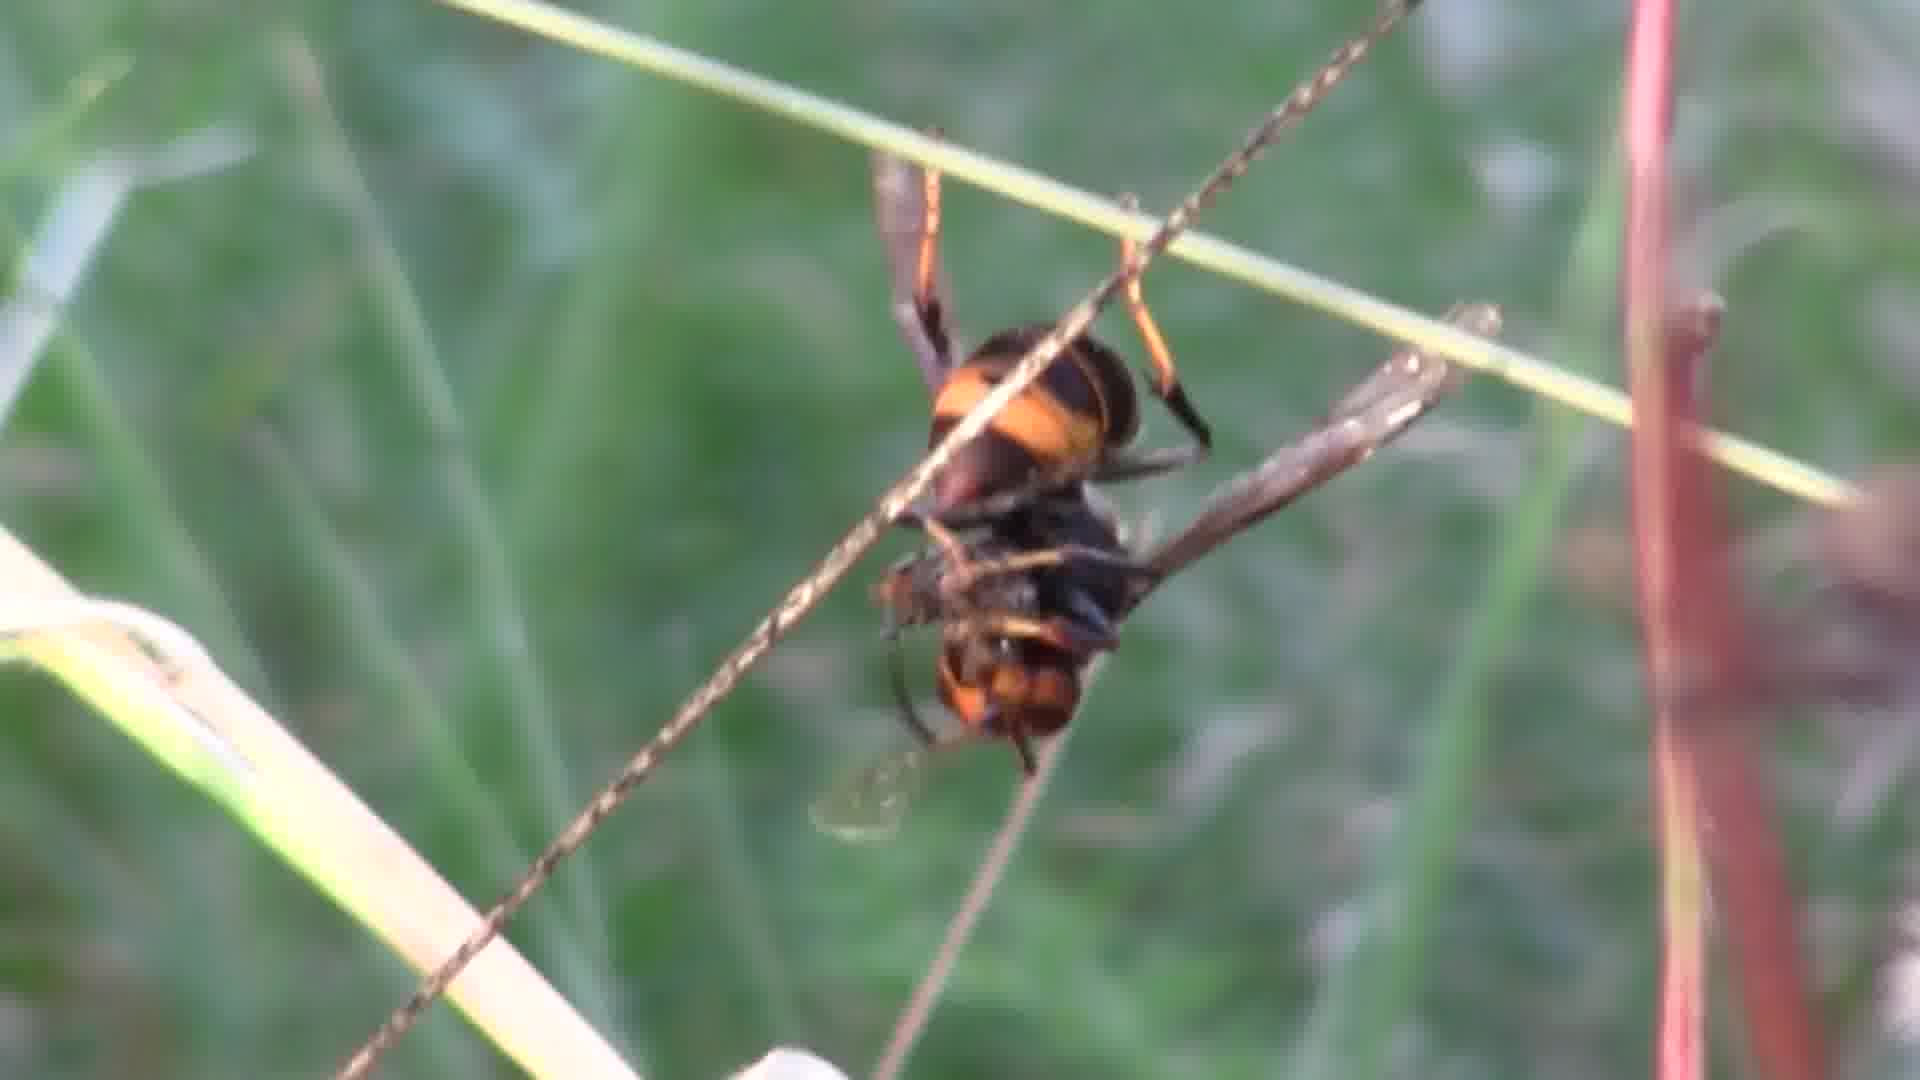hornet: (849, 218, 1226, 786)
